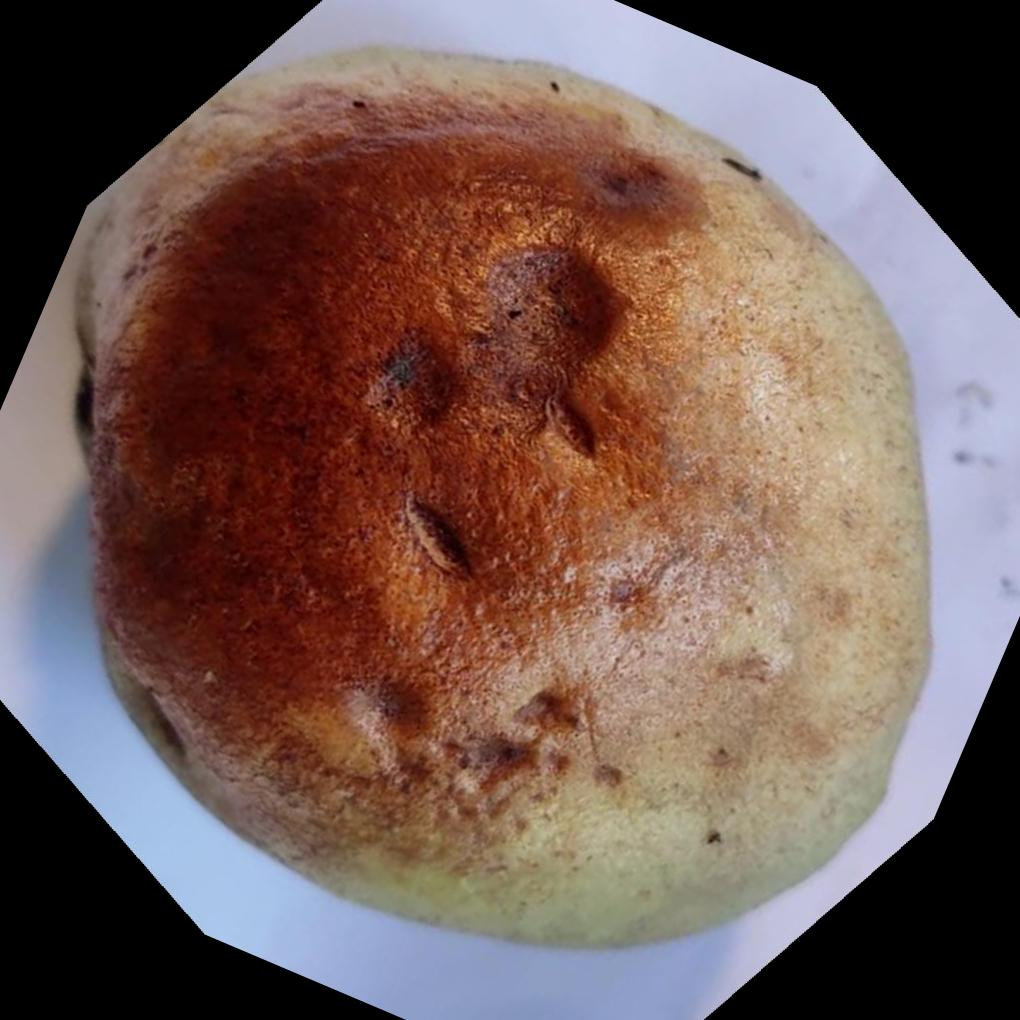FreshOrange: (70, 39, 931, 949)
